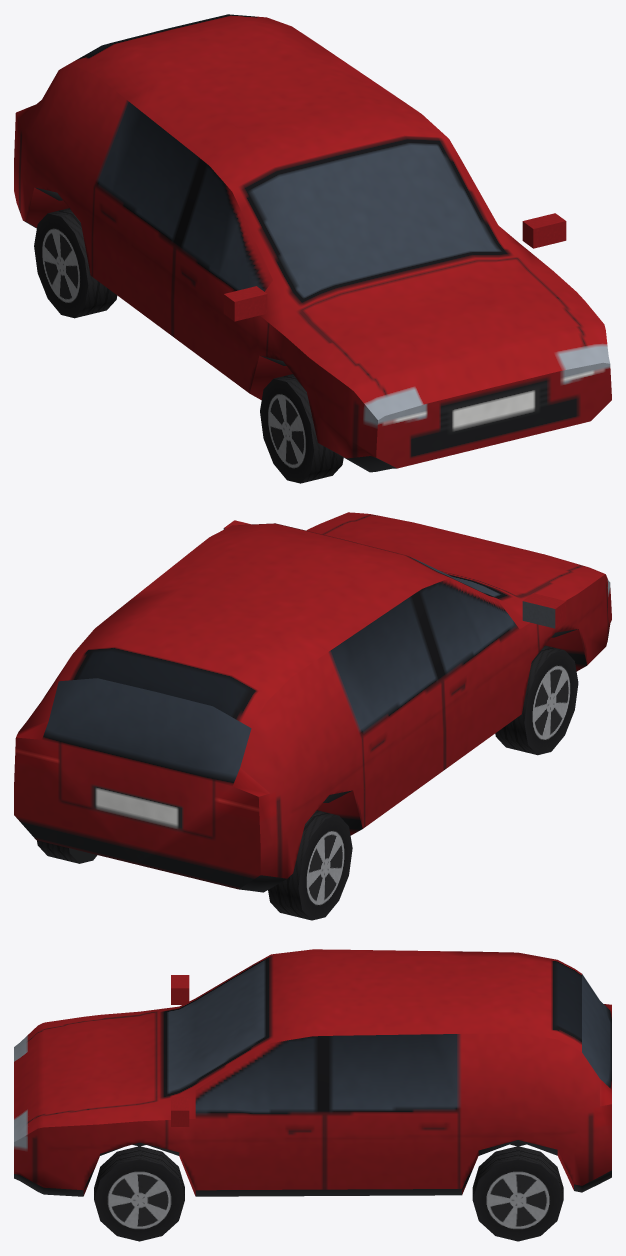
The model's file is SM_Morin_Auto_A_v2_Rosso_LOD1.fbx.
3 renders of one model, top to bottom at view 1: azimuth 30°, elevation 25°; view 2: azimuth 150°, elevation 25°; view 3: azimuth 270°, elevation 25°, orthographic. The views are drawn at different scales.
Visible parts, largest first — view 1: SM_Morin_Auto_A_v2_Rosso_LOD1; view 2: SM_Morin_Auto_A_v2_Rosso_LOD1; view 3: SM_Morin_Auto_A_v2_Rosso_LOD1.
Boxes of the visible parts, x1,y1,x2,y2 form: SM_Morin_Auto_A_v2_Rosso_LOD1: (14,14,611,483); SM_Morin_Auto_A_v2_Rosso_LOD1: (14,512,611,920); SM_Morin_Auto_A_v2_Rosso_LOD1: (14,949,611,1241).
Bounding box in the file's own units: 212 × 395 × 150.
Materials: 1 (1 with a texture image).
